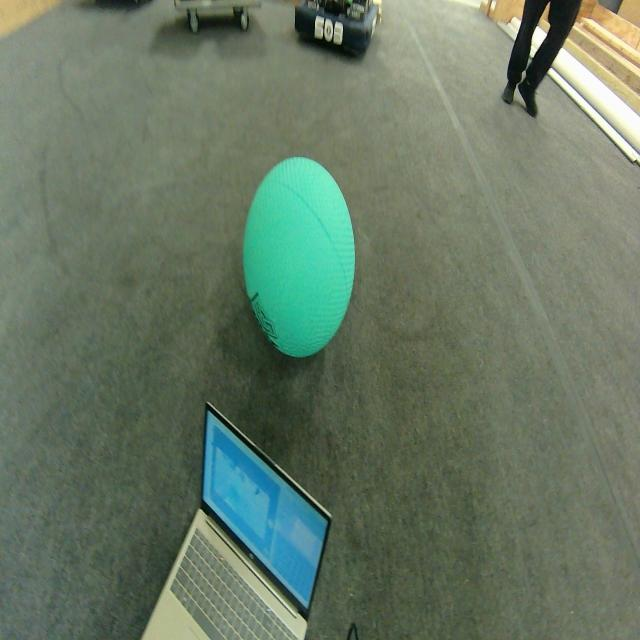algae: (241, 150, 357, 366)
